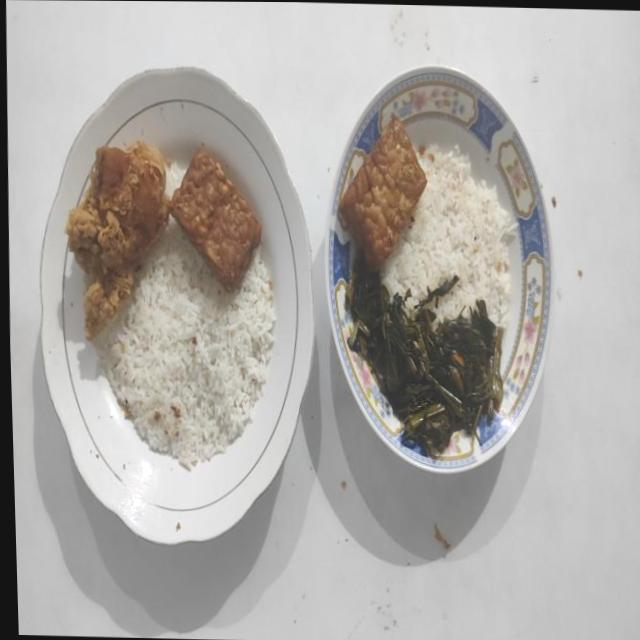nasi_putih: (95, 224, 276, 469), (380, 145, 511, 327)
tempe_goreng: (337, 118, 426, 270), (170, 146, 261, 292)
tumis_kangkung: (344, 252, 502, 458)
